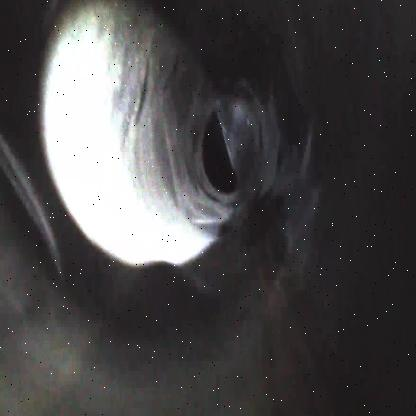Crack: (44, 0, 308, 267)
